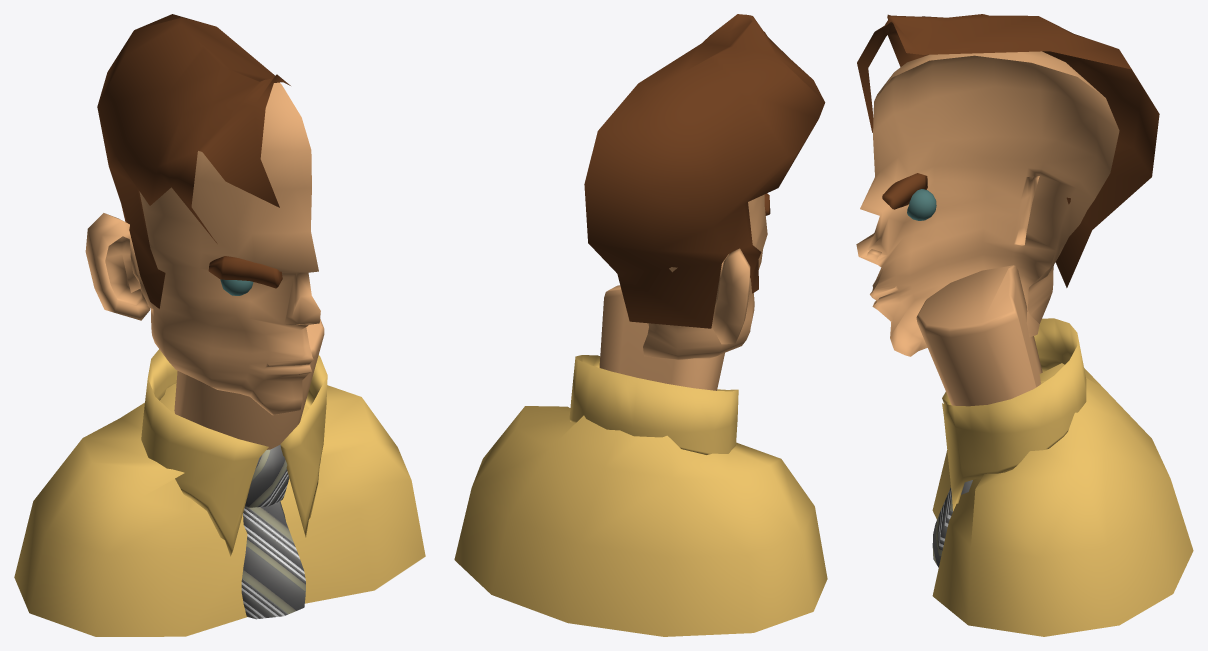
Rendered from dwight04.gltf.
3 views of the same model, side by side, from view 1: azimuth 30°, elevation 25°; view 2: azimuth 150°, elevation 25°; view 3: azimuth 270°, elevation 25° (orthographic). The views are drawn at different scales.
Parts seen in each view (by area): view 1: torse, Sphere, veuch-003-sauv, col, cravate02.001, cou, cravate01.001, sourcils; view 2: torse, veuch-003-sauv, col, Sphere, cou; view 3: Sphere, torse, veuch-003-sauv, cou, col, sourcils, cravate02.001, oeilV3.
Boxes of the visible parts, <box> form: torse: <box>14,383,425,636</box>; Sphere: <box>85,82,320,415</box>; veuch-003-sauv: <box>97,14,290,308</box>; col: <box>141,349,327,556</box>; cravate02.001: <box>241,501,305,619</box>; cou: <box>174,319,324,449</box>; cravate01.001: <box>245,444,289,508</box>; sourcils: <box>208,256,282,288</box>; torse: <box>454,406,827,636</box>; veuch-003-sauv: <box>584,14,825,328</box>; col: <box>569,355,738,454</box>; Sphere: <box>643,194,767,360</box>; cou: <box>599,285,724,390</box>; Sphere: <box>856,51,1119,356</box>; torse: <box>932,363,1193,636</box>; veuch-003-sauv: <box>857,14,1159,287</box>; cou: <box>916,265,1042,406</box>; col: <box>942,318,1086,510</box>; sourcils: <box>882,173,927,209</box>; cravate02.001: <box>932,480,972,567</box>; oeilV3: <box>907,189,936,220</box>.
Size of the model in its own units: 1.74 by 2.47 by 1.43.
5 materials, 1 textured.
